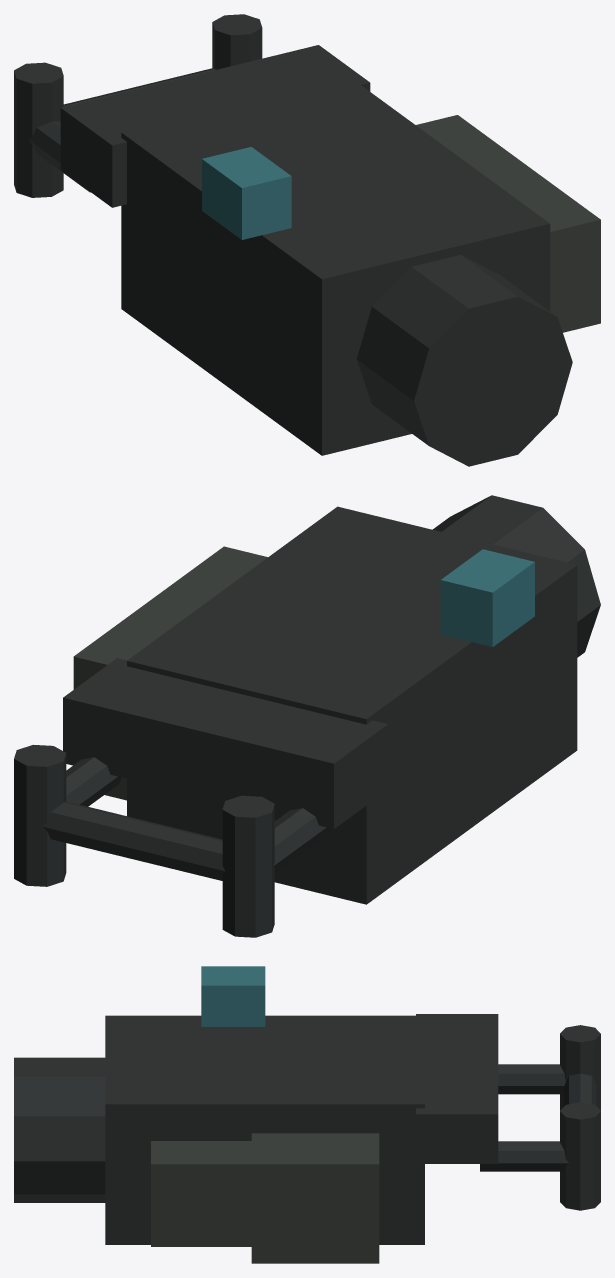
File: Bastion_MT12_MinigunBody.obj
3 views of the same model, one above another, from view 1: azimuth 30°, elevation 25°; view 2: azimuth 150°, elevation 25°; view 3: azimuth 270°, elevation 25° (orthographic). The views are drawn at different scales.
Visible parts, largest first — view 1: Bastion_MT12_MinigunBody; view 2: Bastion_MT12_MinigunBody; view 3: Bastion_MT12_MinigunBody.
Boxes of the visible parts, x1,y1,x2,y2 form: Bastion_MT12_MinigunBody: [14, 14, 600, 466]; Bastion_MT12_MinigunBody: [14, 495, 600, 937]; Bastion_MT12_MinigunBody: [14, 966, 600, 1263].
Size of the model in its own units: 0.66 by 0.44 by 1.29.
1 material, 1 textured.
